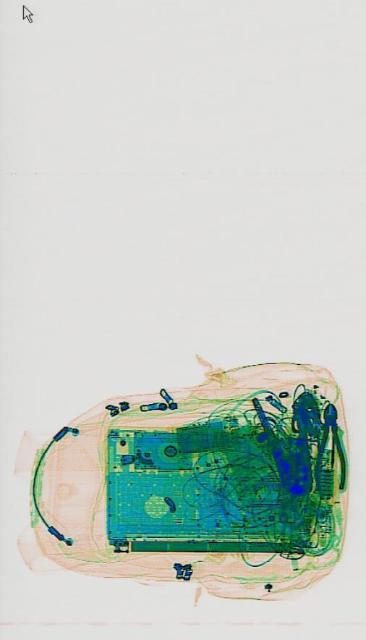Pliers: (249, 372, 316, 508), (313, 402, 343, 493)
